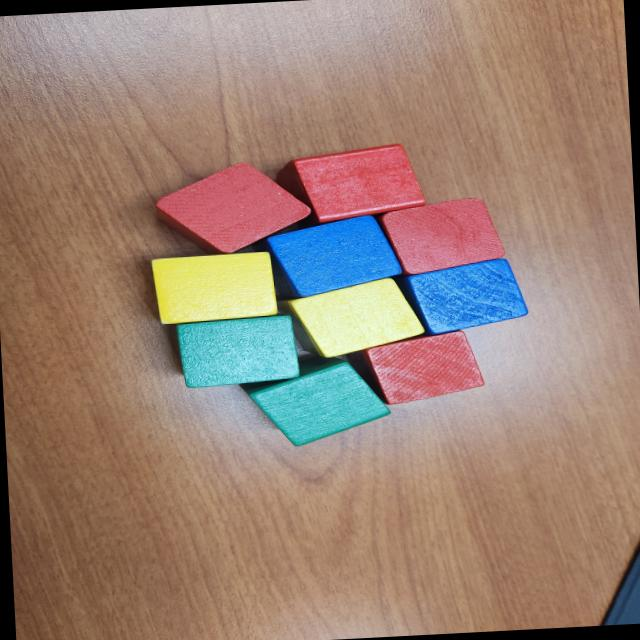blue: (261, 211, 407, 299), (393, 255, 532, 336)
green: (235, 348, 394, 452), (174, 312, 305, 390)
red: (153, 160, 314, 257), (286, 143, 427, 224), (371, 196, 507, 276), (356, 328, 486, 411)
yellow: (283, 274, 428, 362), (143, 250, 281, 326)
